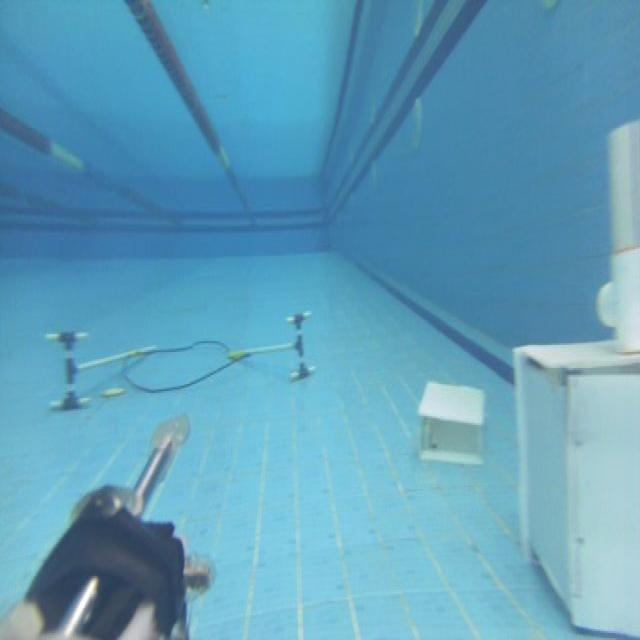Cube: (513, 311, 640, 640)
Cuboid: (416, 375, 487, 466)
